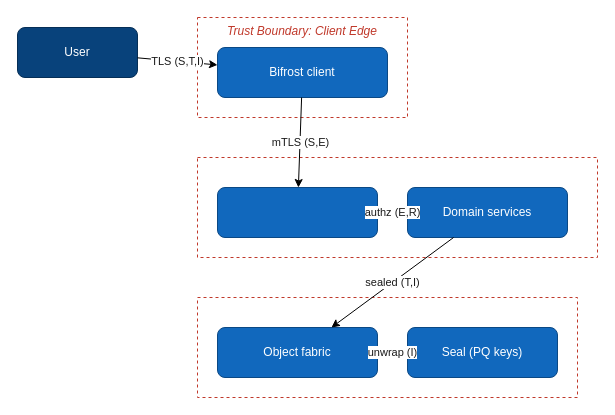
Some shapes in this 615 by 415 pixel diagram are drawn without their labels. The box of each missing label's shape, as (x1, y1, x2, y2) in pixels:
Bifrost API: (216, 186, 378, 238)
Trust Boundary: Bifrost Service: (196, 156, 598, 258)
Trust Boundary: Midgard Enclosure: (196, 296, 578, 398)
